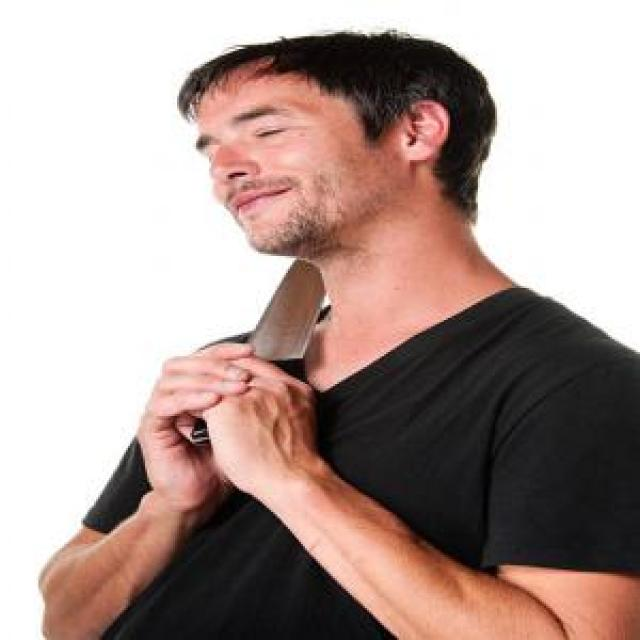knife: (190, 258, 326, 445)
